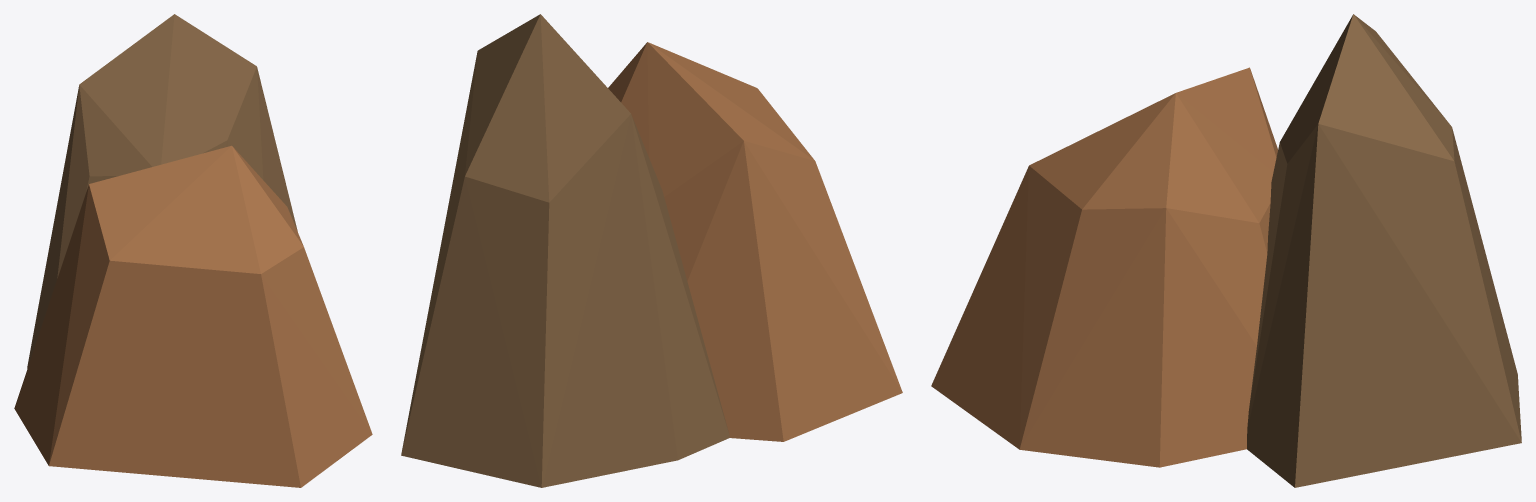
File: env_rock_c.glb
3 renders of one model, left to right at view 1: azimuth 30°, elevation 25°; view 2: azimuth 150°, elevation 25°; view 3: azimuth 270°, elevation 25°, orthographic. The views are drawn at different scales.
Parts seen in each view (by area): view 1: rock-col; view 2: rock-col; view 3: rock-col.
Part boxes in pixels (<box>): rock-col: <box>14,14,372,487</box>; rock-col: <box>401,14,902,487</box>; rock-col: <box>931,14,1521,487</box>.
Size of the model in its own units: 4.43 by 4.15 by 5.54.
Materials: 1 (1 with a texture image).
